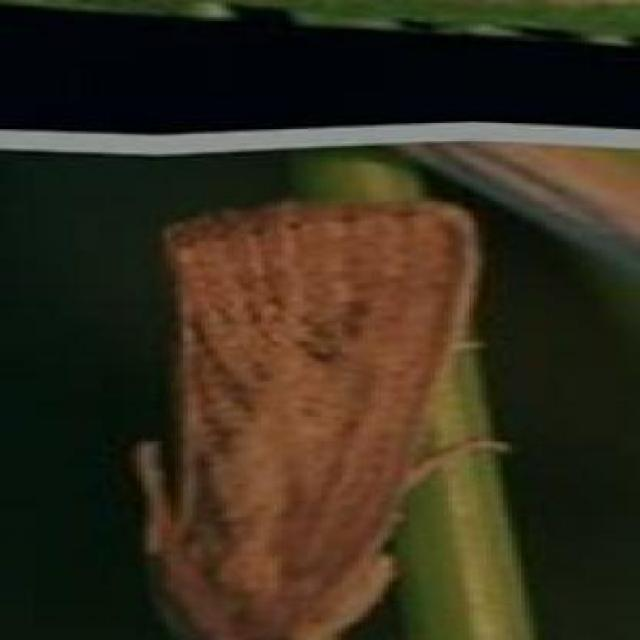stem-borer: (129, 189, 511, 640)
